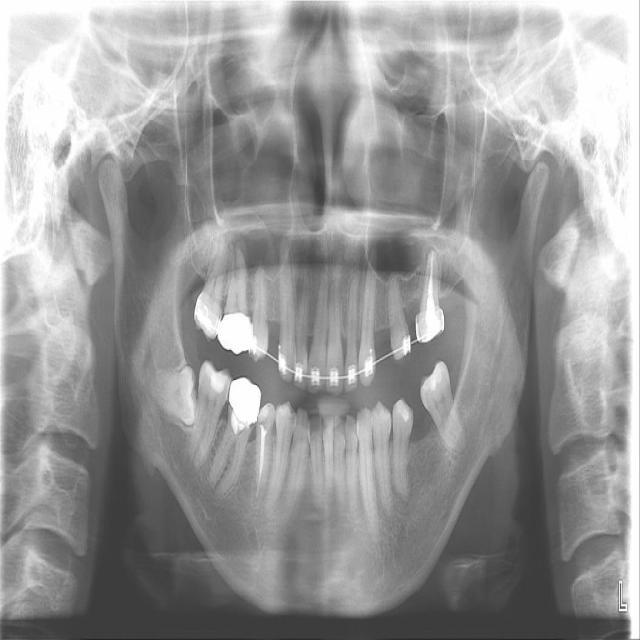52: (407, 358, 463, 417), (212, 307, 262, 359), (224, 375, 264, 439), (195, 359, 234, 415), (189, 291, 226, 344), (410, 305, 452, 345), (391, 396, 415, 436)
73: (602, 569, 619, 579)
BioHorizons Implant: (416, 248, 444, 345)
Blue Sky Bio Implant: (412, 359, 470, 459)
Caries: (189, 230, 237, 344)
Implant: (186, 358, 235, 473)
Keystone Dental Implant: (146, 363, 205, 432)
